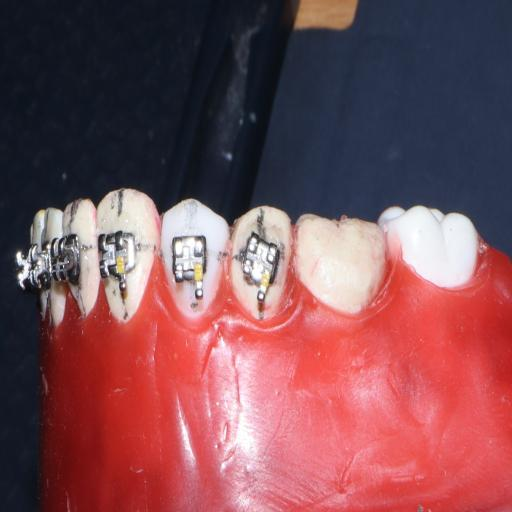incorrect_brace: (241, 229, 281, 288)
